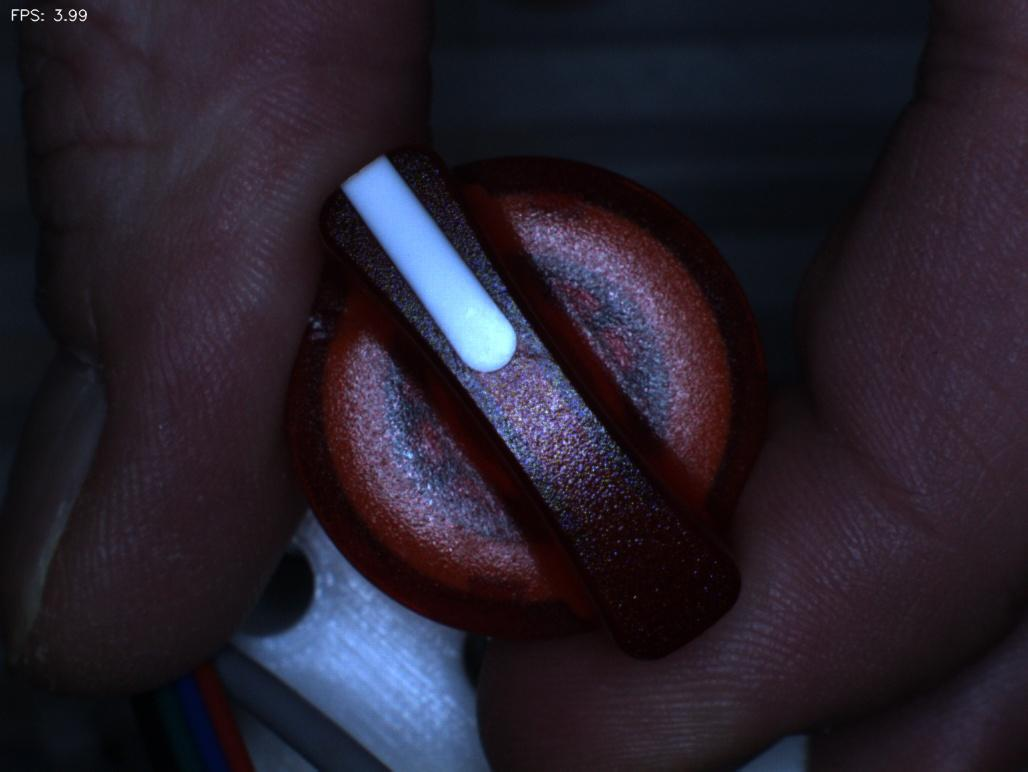Choc: (287, 285, 357, 367)
